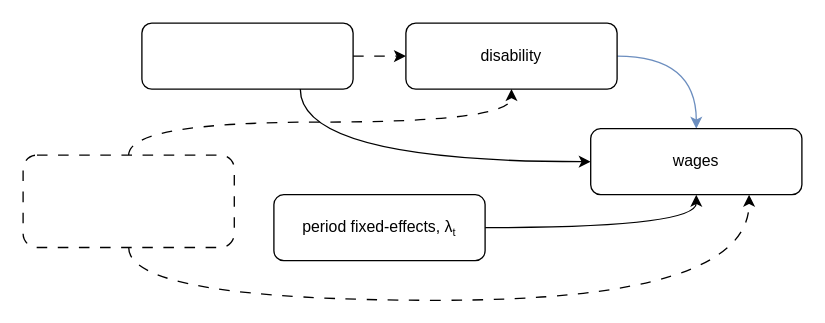
Some shapes in this 825 by 323 pixel diagram are drawn without their labels. The centre of each missing label's shape, as x and y in pixels:
"Individual fixed-effects, γ i" goes at (x=247, y=55).
"Unobserved confounders: ageism, discrimination, employer's prejudge" goes at (x=128, y=201).
